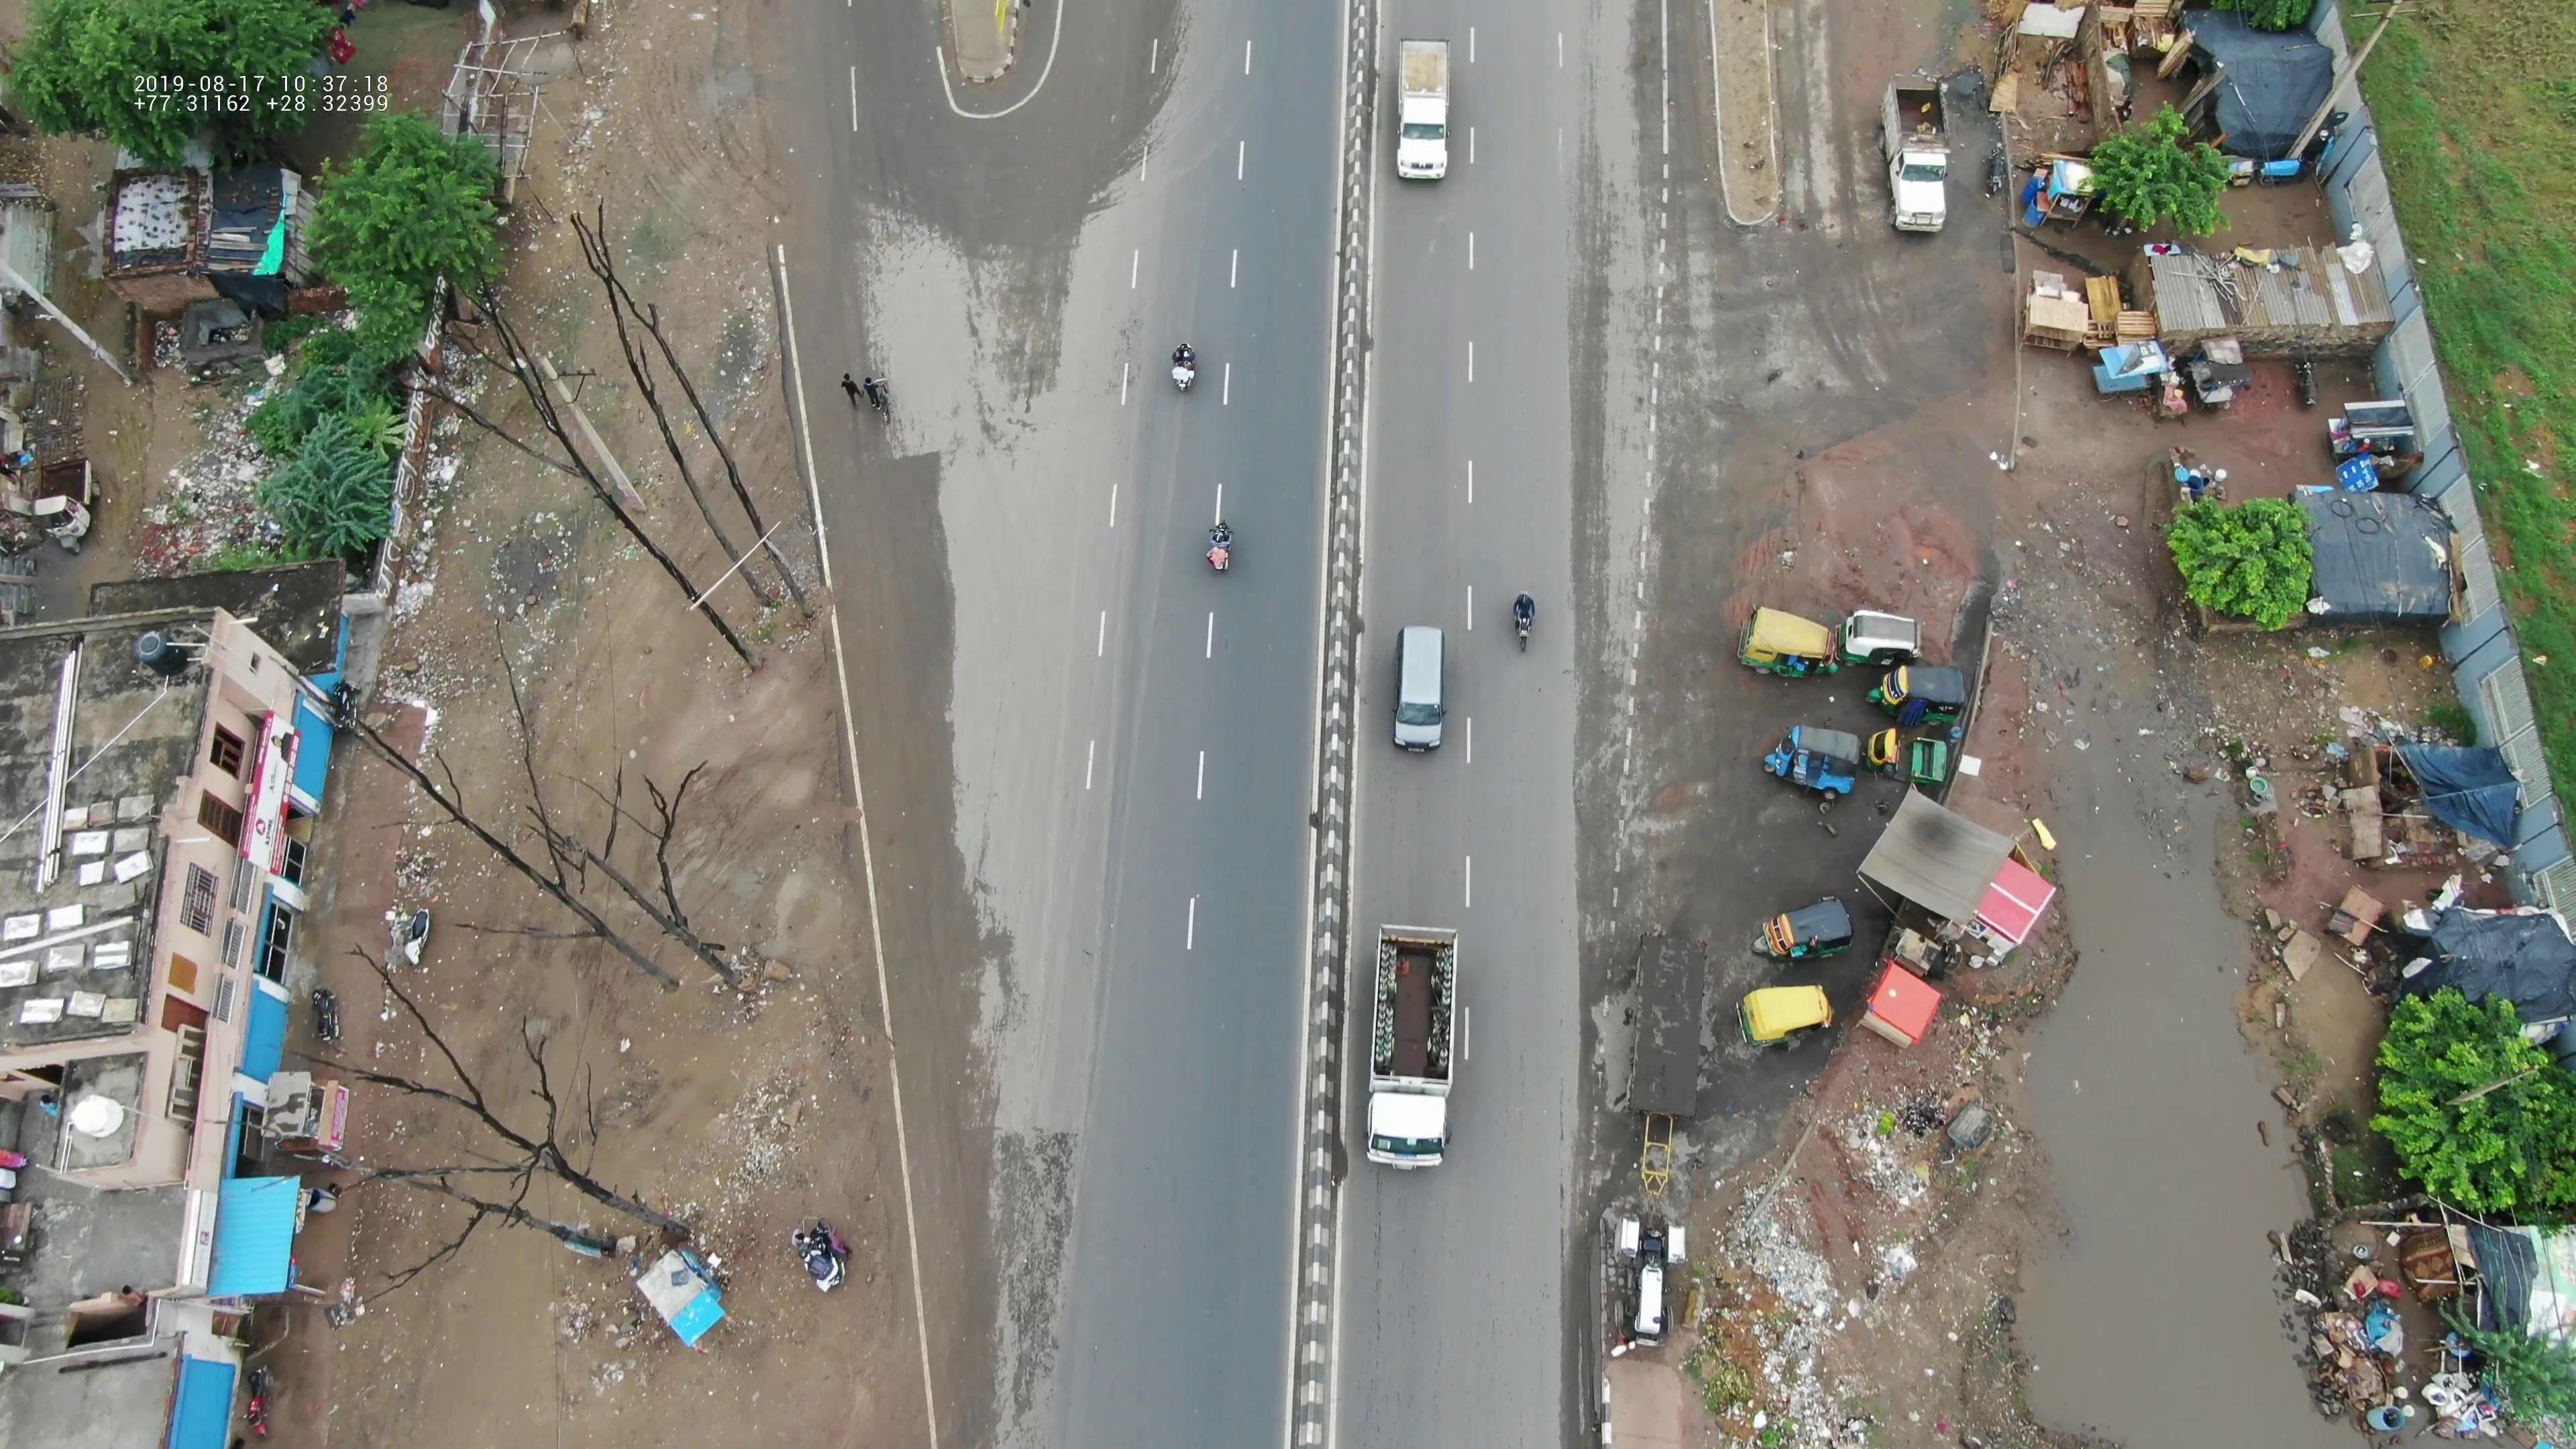Ravelling: (980, 1088, 1092, 1419)
